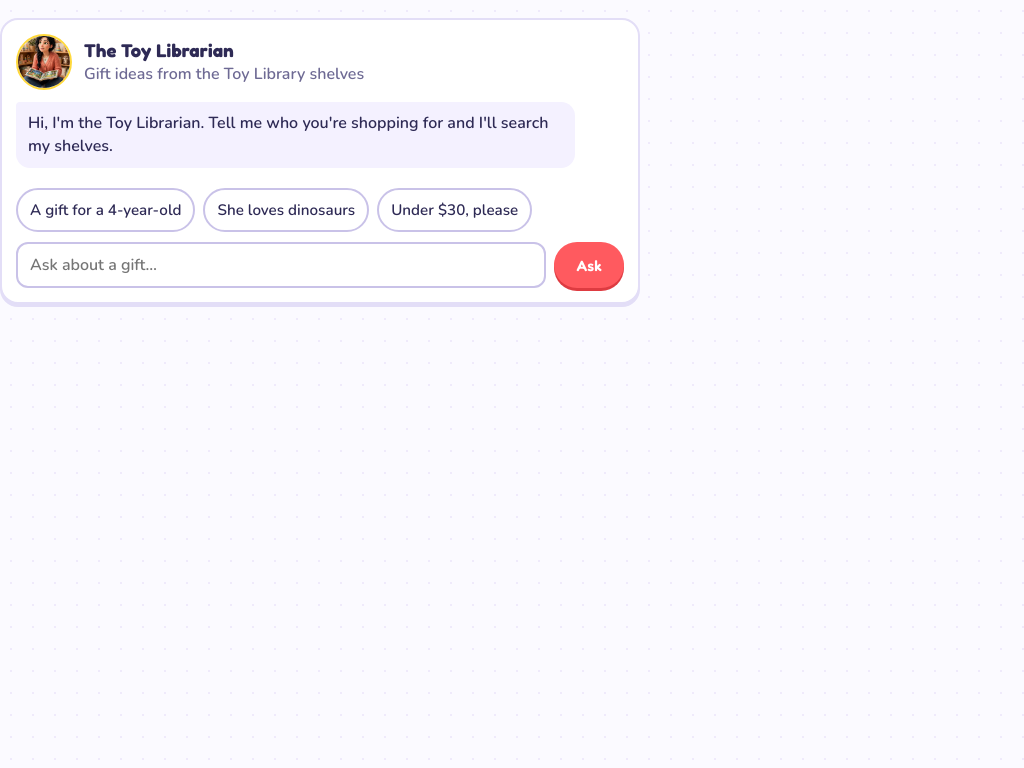
Test: flag ON › history limit: friendly message, draft kept, one-tap fresh start
Type "one more" into the field named "Message the Toy Librarian". click: (281, 265)
box: [16,242,546,288]
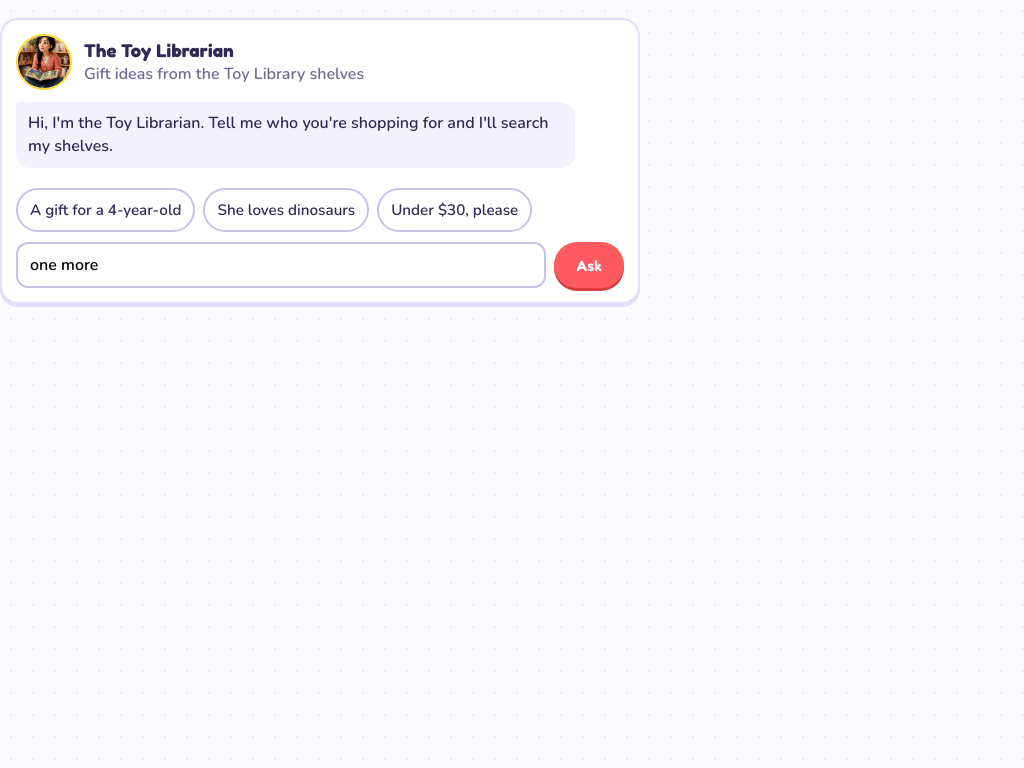
Click the button "Ask". click: click(589, 265)
box: [554,242,624,288]
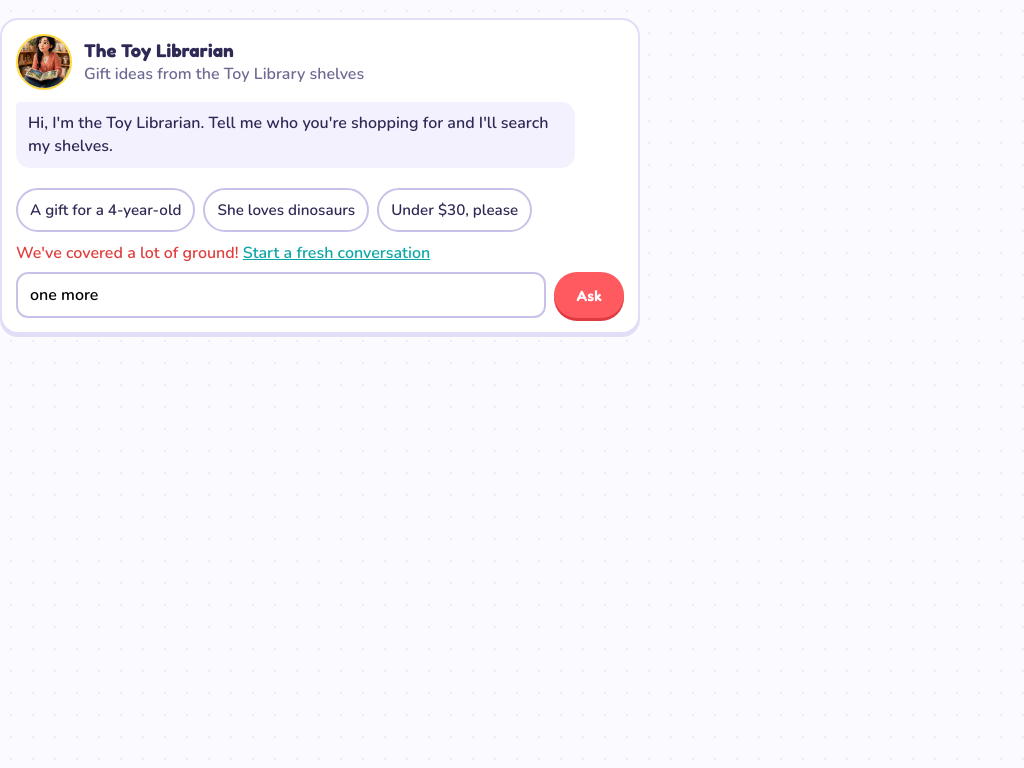
Expected: the message shows "We've covered a lot of ground!", [16,242,238,264]
Click the button "Start a fresh conversation". click: click(337, 253)
box: [243,242,430,264]
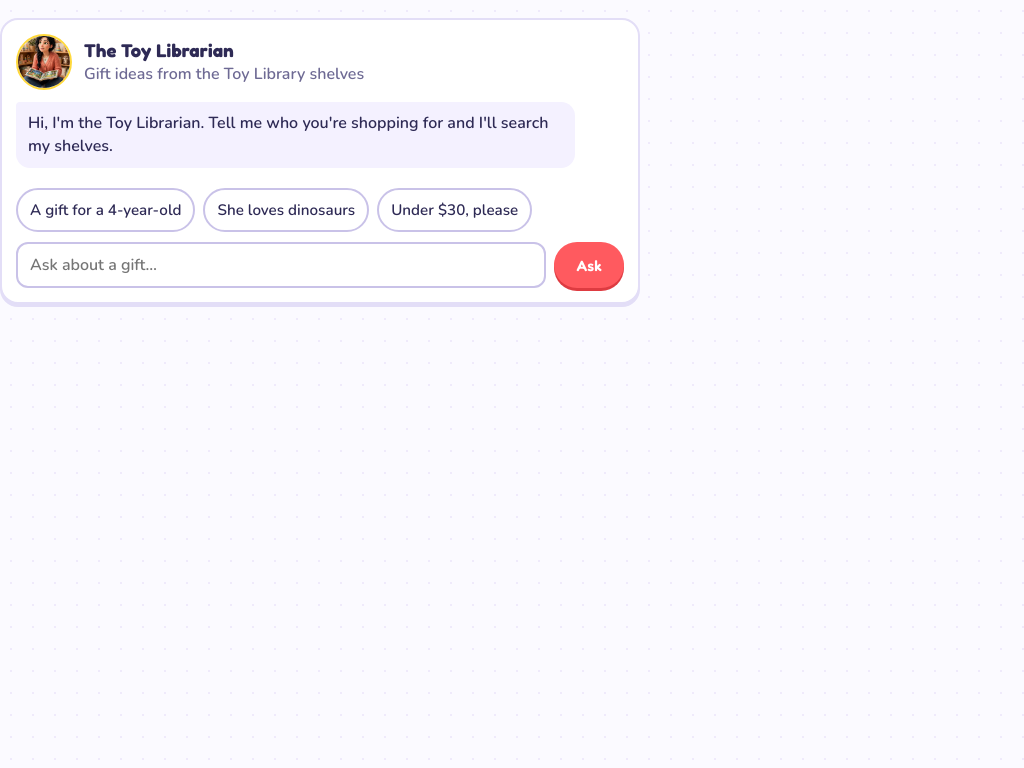
Expected: the button "A gift for a 4-year-old" is shown, [16,188,196,232]
Expected: the message "We've covered a lot of ground! Start a fresh conversation" is gone
